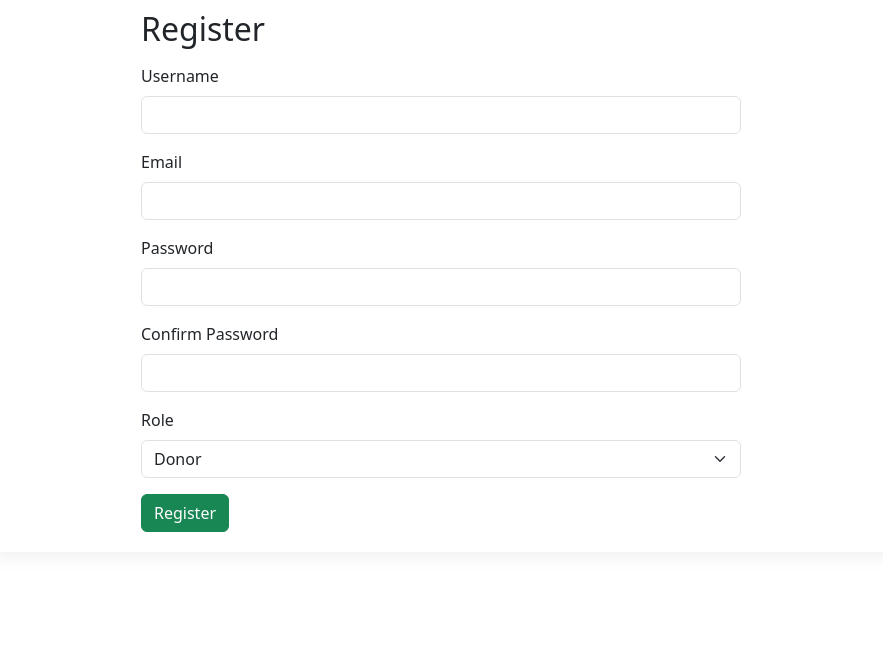
Scenario: shows validation errors when submitting empty register form
Click the button "Register": (185, 513) [141,494,229,532]
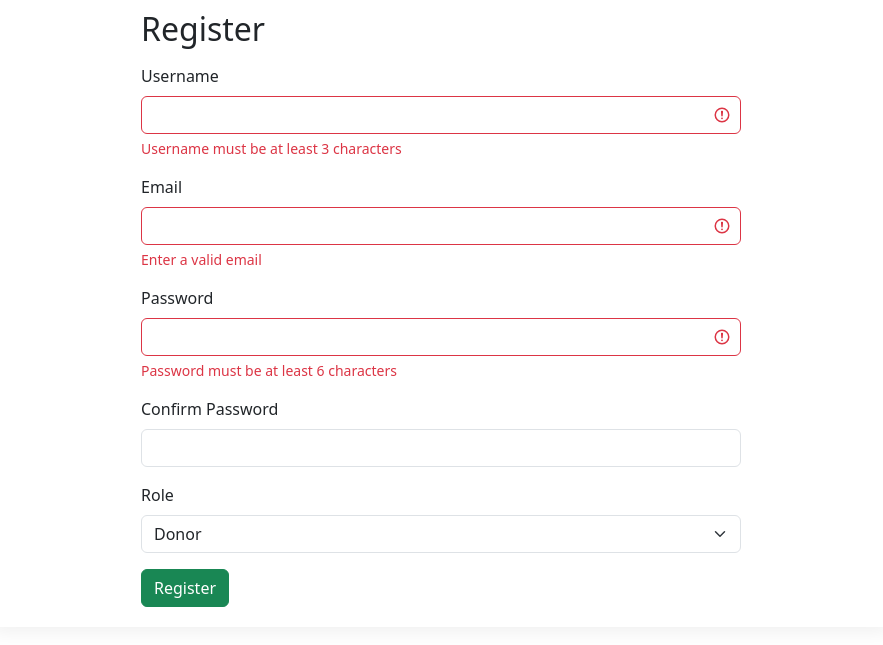
Now the text "Username must be at least 3 characters" is shown, box [141,139,402,158]
Now the text "Password must be at least 6 characters" is shown, box [141,361,397,380]
